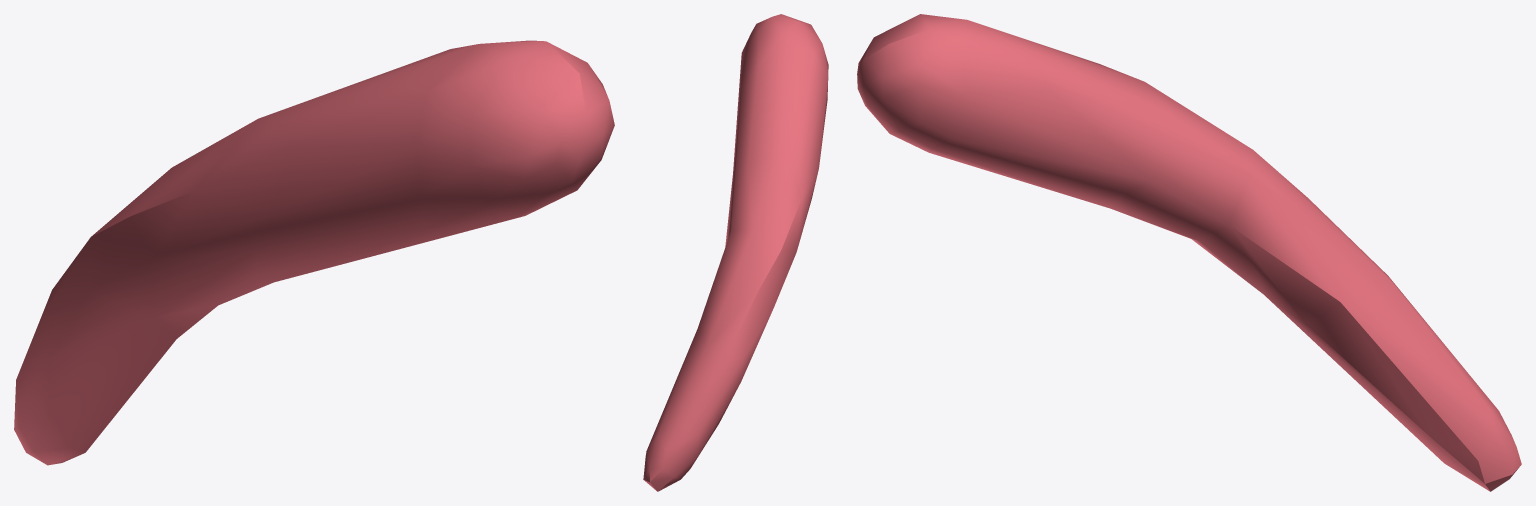
The model's file is fma8675_fj6011.glb.
3 views of the same model, side by side, from view 1: azimuth 30°, elevation 25°; view 2: azimuth 150°, elevation 25°; view 3: azimuth 270°, elevation 25° (orthographic). The views are drawn at different scales.
Parts seen in each view (by area): view 1: FMA8675_FJ6011; view 2: FMA8675_FJ6011; view 3: FMA8675_FJ6011.
Part boxes in pixels (x1=…): FMA8675_FJ6011: x1=14, y1=40, x2=614, y2=465; FMA8675_FJ6011: x1=643, y1=14, x2=828, y2=491; FMA8675_FJ6011: x1=857, y1=14, x2=1521, y2=491.
Bounding box in the file's own units: 0.00309 × 0.00685 × 0.00807.
